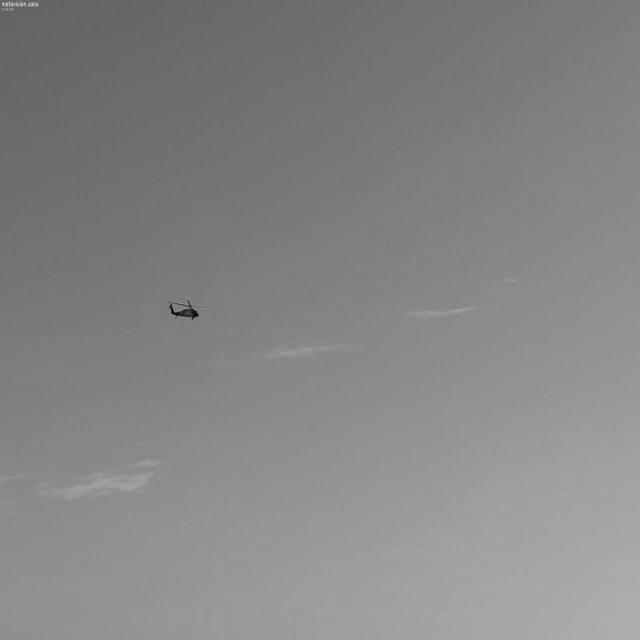helikopter: (153, 266, 232, 356)
